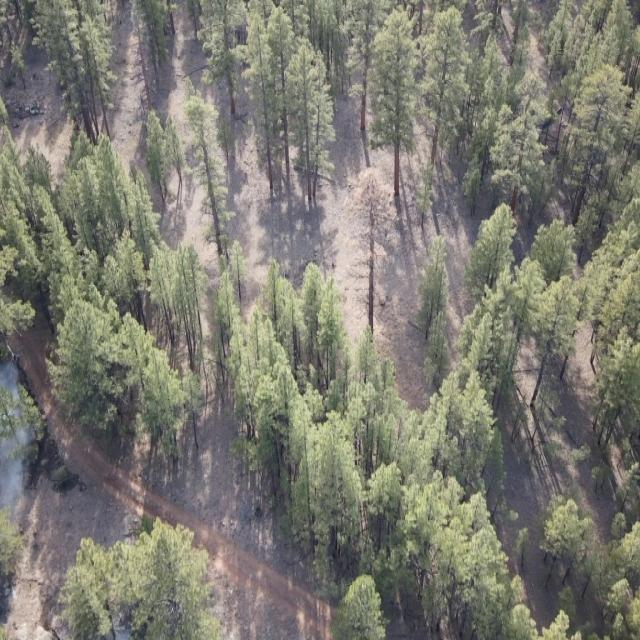smoke: (0, 362, 33, 523)
